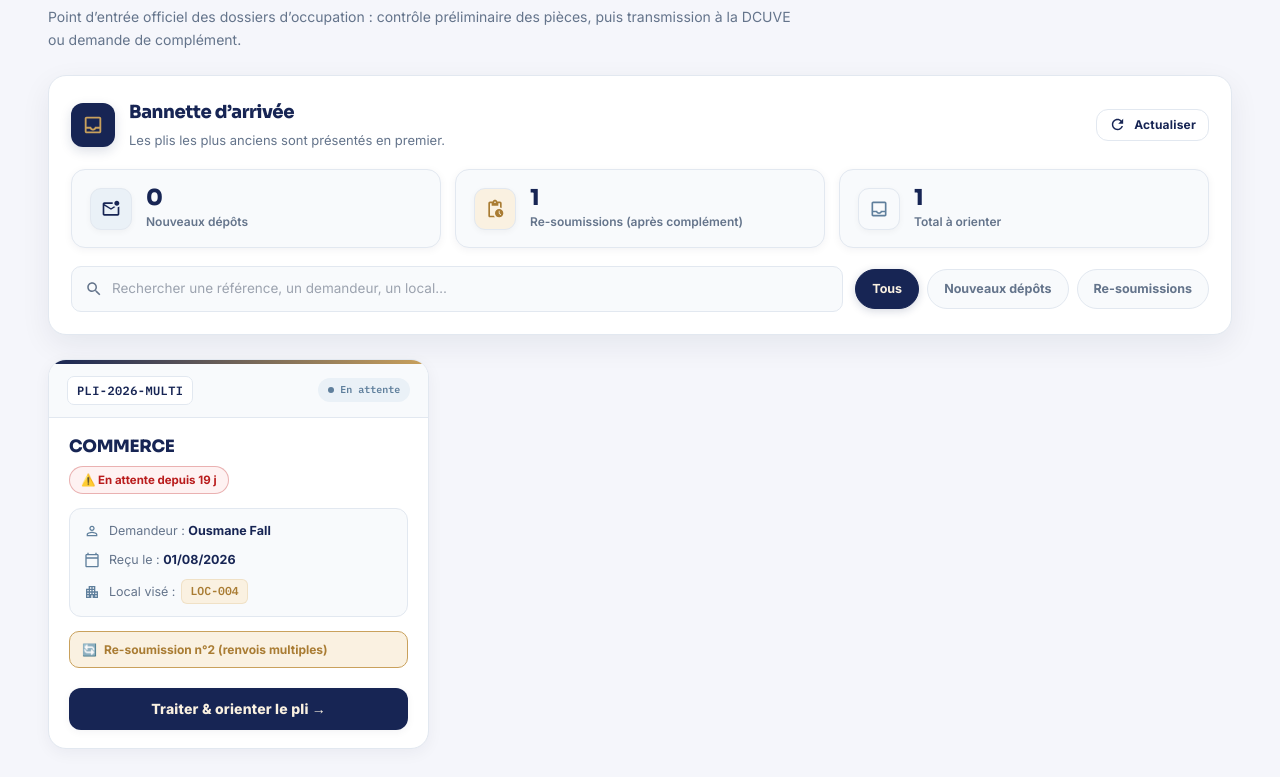
Test: BureauCourrierView › affiche l option rejet direct uniquement si le dossier a plus d un renvoi
(page scrolled)
Expected: the text "PLI-2026-MULTI" is shown, [67,376,193,405]
Click the button "Traiter & orienter le pli →" at (239, 709), box [69,688,408,730]
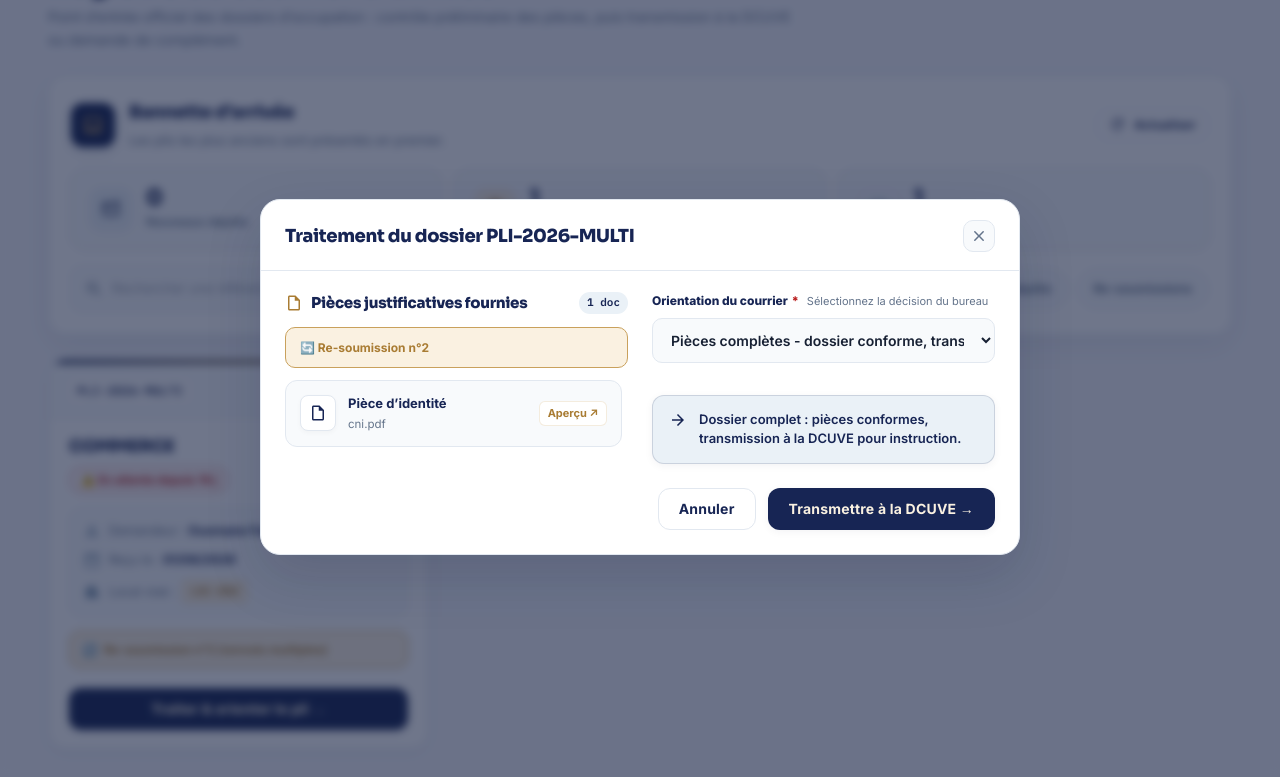
Expected: the heading "Traitement du dossier PLI-2026-MULTI" is shown, [285,222,634,251]
